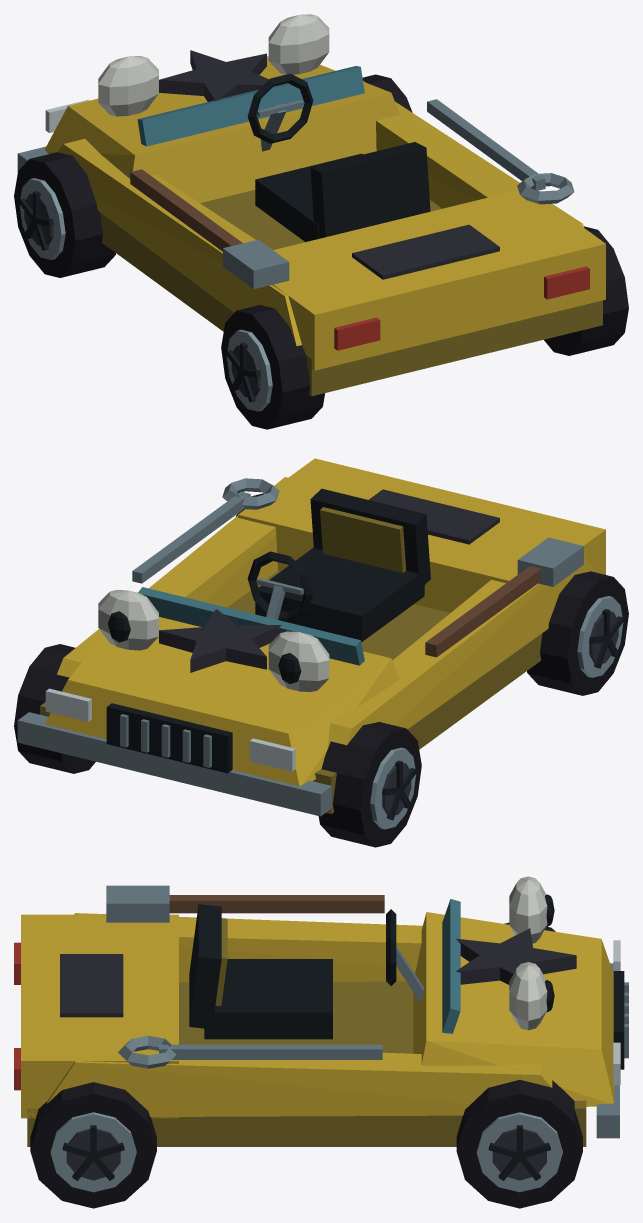
Rendered from kart.glb.
3 views of the same model, one above another, from view 1: azimuth 30°, elevation 25°; view 2: azimuth 150°, elevation 25°; view 3: azimuth 270°, elevation 25° (orthographic). The views are drawn at different scales.
Parts seen in each view (by area): view 1: identity-sedan-sedan-road-car-body, identity-sedan-driver-cockpit, wheel-front-left, wheel-rear-left, identity-sedan-motif-tools, identity-sedan-motif-eyes, identity-sedan-motif-star, wheel-rear-right, wheel-front-right; view 2: identity-sedan-sedan-road-car-body, identity-sedan-driver-cockpit, wheel-front-left, wheel-rear-left, identity-sedan-motif-tools, identity-sedan-motif-eyes, identity-sedan-motif-star, wheel-front-right; view 3: identity-sedan-sedan-road-car-body, identity-sedan-driver-cockpit, wheel-front-right, wheel-rear-right, identity-sedan-motif-tools, identity-sedan-motif-eyes, identity-sedan-motif-star.
Boxes of the visible parts, x1,y1,x2,y2 form: identity-sedan-sedan-road-car-body: (17, 55, 605, 396); identity-sedan-driver-cockpit: (247, 73, 430, 241); wheel-front-left: (14, 152, 115, 277); wheel-rear-left: (221, 305, 324, 429); identity-sedan-motif-tools: (130, 99, 574, 289); identity-sedan-motif-eyes: (98, 14, 329, 116); identity-sedan-motif-star: (159, 50, 281, 101); wheel-rear-right: (544, 226, 628, 355); wheel-front-right: (362, 74, 412, 112); identity-sedan-sedan-road-car-body: (17, 458, 605, 816); identity-sedan-driver-cockpit: (247, 488, 430, 641); wheel-front-left: (318, 722, 421, 847); wheel-rear-left: (527, 571, 628, 695); identity-sedan-motif-tools: (132, 478, 583, 657); identity-sedan-motif-eyes: (98, 590, 329, 691); identity-sedan-motif-star: (159, 609, 281, 672); wheel-front-right: (14, 644, 95, 773); identity-sedan-sedan-road-car-body: (14, 899, 628, 1146); identity-sedan-driver-cockpit: (189, 904, 423, 1039); wheel-front-right: (456, 1079, 582, 1208); wheel-rear-right: (30, 1082, 156, 1208); identity-sedan-motif-tools: (106, 885, 384, 1068); identity-sedan-motif-eyes: (509, 876, 554, 1030); identity-sedan-motif-star: (456, 928, 576, 984).
Bounding box in the file's own units: 2.07 × 1.09 × 2.92.
